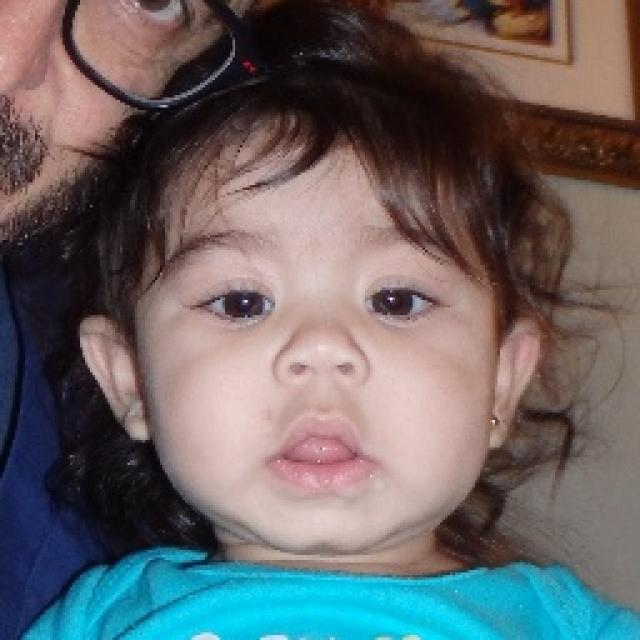earlobe: (79, 315, 152, 443), (488, 312, 544, 450)
